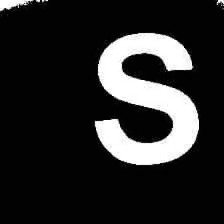LTR_S: (82, 21, 204, 171)
